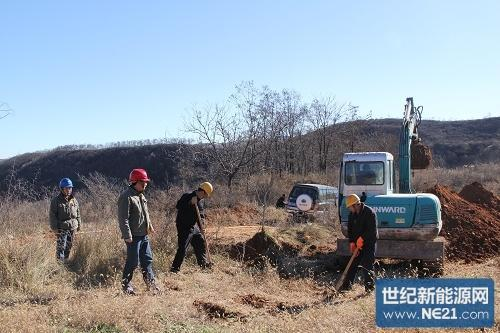helmet: (52, 173, 78, 200), (128, 166, 150, 192), (192, 182, 215, 203), (345, 194, 366, 215)
